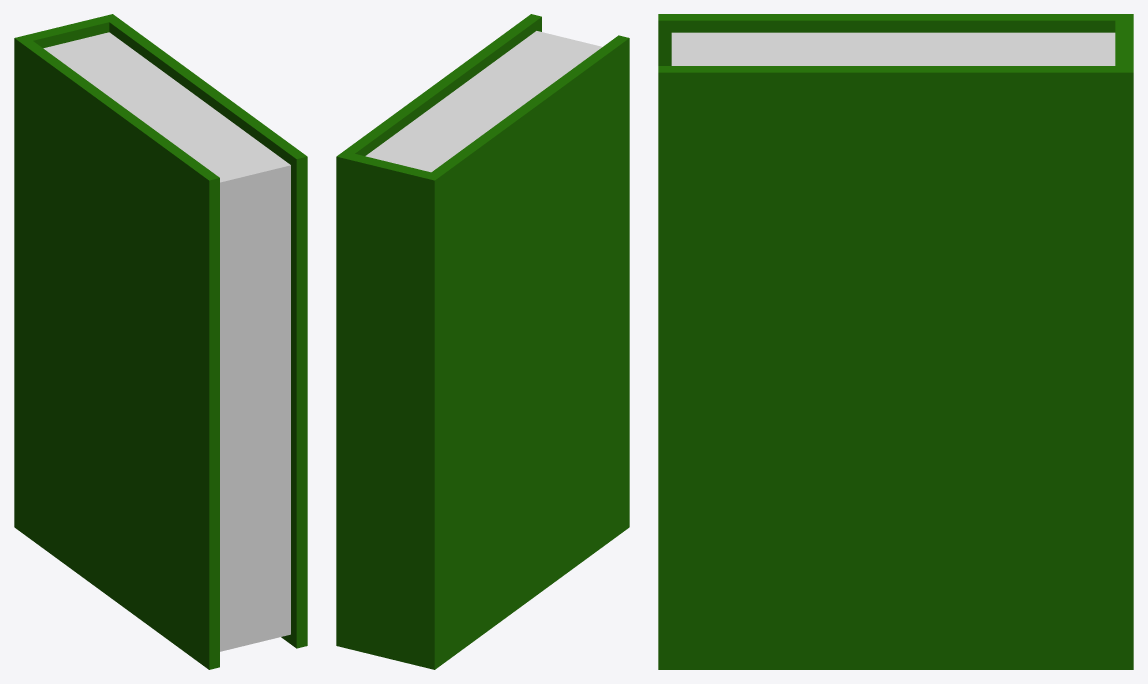
File: libro1.FBX
The picture shows the model from 3 angles, left to right: view 1: azimuth 30°, elevation 25°; view 2: azimuth 150°, elevation 25°; view 3: azimuth 270°, elevation 25°; orthographic projection. The views are drawn at different scales.
Parts seen in each view (by area): view 1: Box001; view 2: Box001; view 3: Box001.
Boxes of the visible parts, x1,y1,x2,y2 form: Box001: [14, 14, 307, 669]; Box001: [336, 14, 629, 669]; Box001: [658, 14, 1133, 669].
Bounding box in the file's own units: 1.27 × 6.05 × 4.36.
